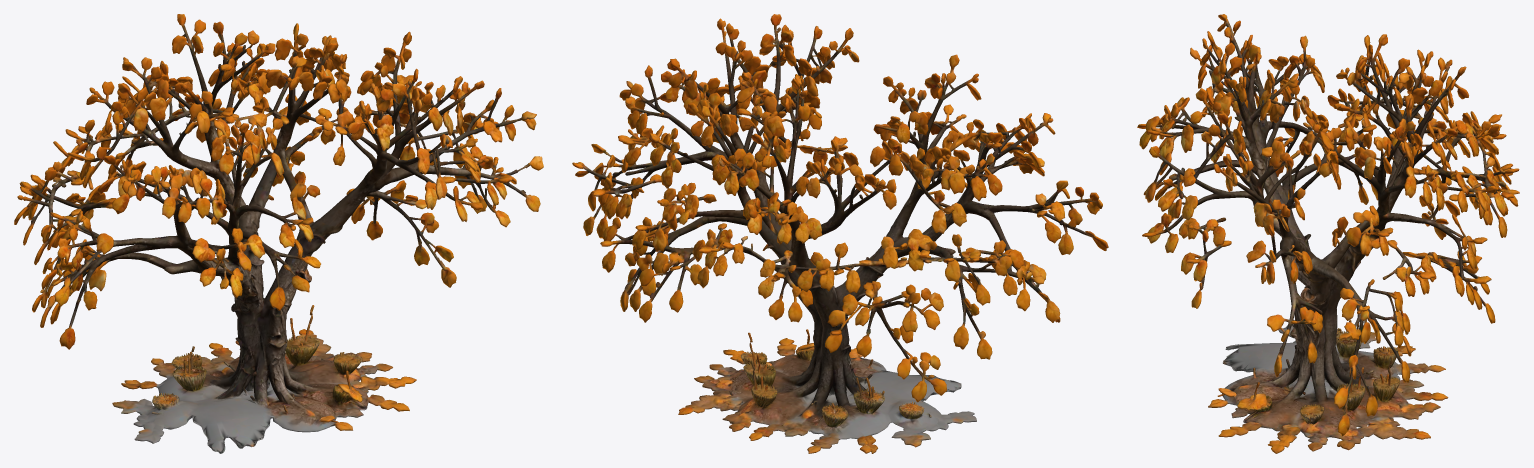
Rendered from tree-maple.glb.
3 renders of one model, left to right at view 1: azimuth 30°, elevation 25°; view 2: azimuth 150°, elevation 25°; view 3: azimuth 270°, elevation 25°, orthographic. The views are drawn at different scales.
Visible parts, largest first — view 1: tripo_node_d822a700-37fc-48dd-b5f0-a65a0b1662dd; view 2: tripo_node_d822a700-37fc-48dd-b5f0-a65a0b1662dd; view 3: tripo_node_d822a700-37fc-48dd-b5f0-a65a0b1662dd.
Part boxes in pixels (left/top/right/bottom): tripo_node_d822a700-37fc-48dd-b5f0-a65a0b1662dd: left=14, top=14, right=543, bottom=453; tripo_node_d822a700-37fc-48dd-b5f0-a65a0b1662dd: left=572, top=14, right=1108, bottom=453; tripo_node_d822a700-37fc-48dd-b5f0-a65a0b1662dd: left=1137, top=14, right=1519, bottom=453.
Size of the model in its own units: 0.9813 by 0.6356 by 0.6525.
1 material, 1 textured.
